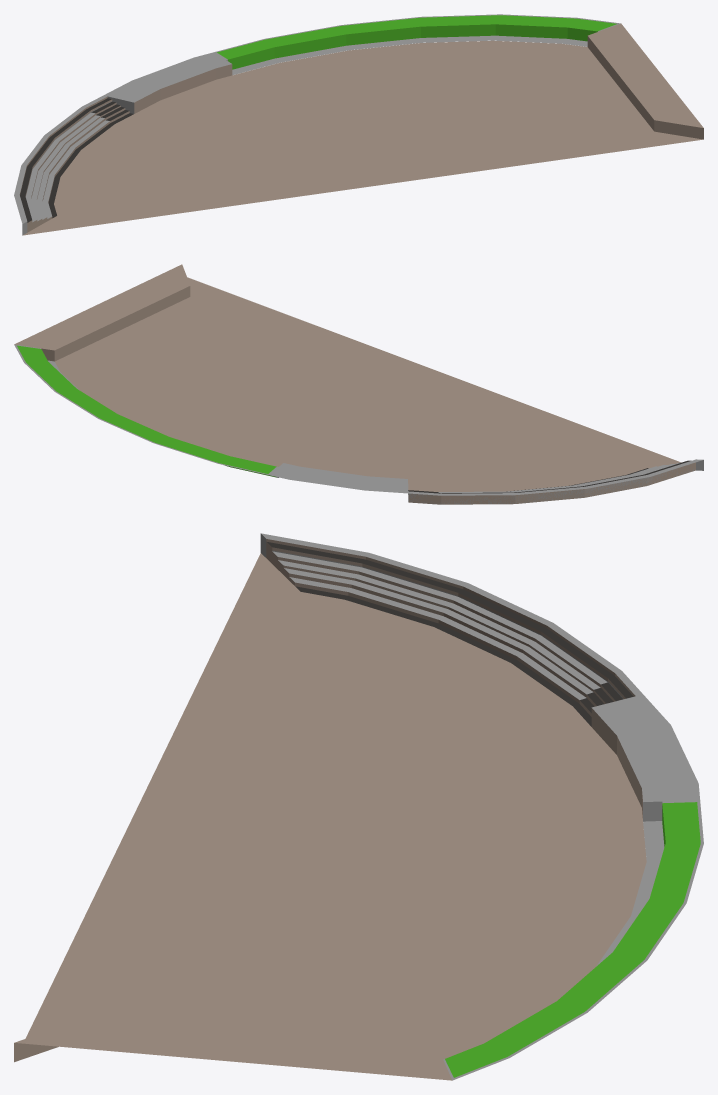
Rendered from square.glb.
3 views of the same model, one above another, from view 1: azimuth 30°, elevation 25°; view 2: azimuth 150°, elevation 25°; view 3: azimuth 270°, elevation 25° (orthographic). The views are drawn at different scales.
Visible parts, largest first — view 1: Circle; view 2: Circle; view 3: Circle.
Part boxes in pixels (x1,y1,x2,y2): Circle: [14, 14, 703, 235]; Circle: [14, 264, 703, 504]; Circle: [14, 533, 703, 1080].
Bounding box in the file's own units: 7.5 × 0.125 × 3.99.
